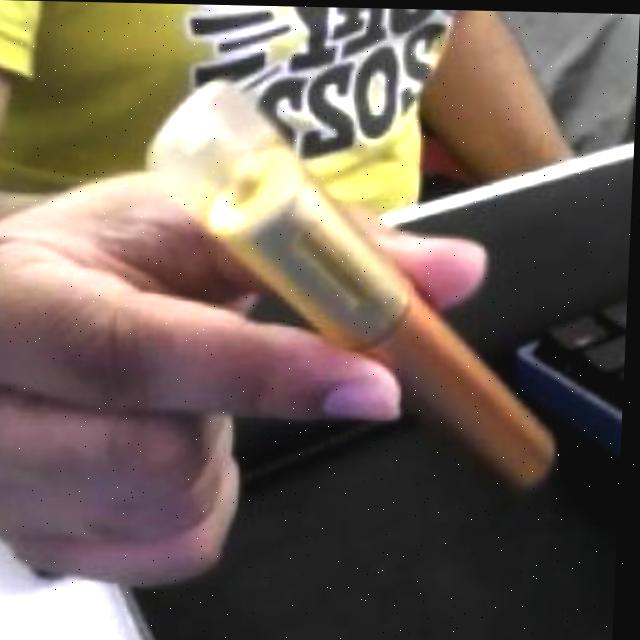vape: (133, 76, 570, 481)
